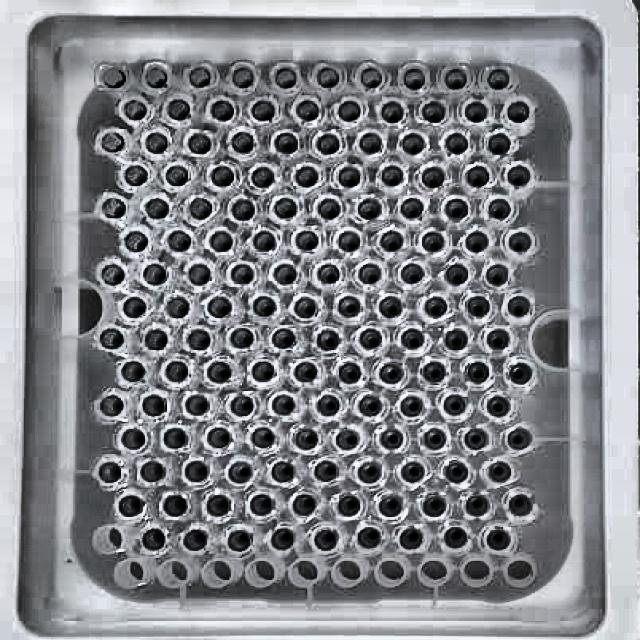vial: (356, 130, 384, 157), (315, 329, 342, 353), (314, 65, 341, 89), (270, 263, 298, 286), (166, 229, 191, 254), (485, 198, 511, 222), (420, 100, 446, 124), (400, 133, 427, 156), (356, 462, 384, 484), (292, 295, 317, 319), (336, 229, 361, 253), (101, 262, 126, 286), (228, 460, 254, 483), (401, 262, 427, 285), (399, 196, 425, 219), (230, 199, 256, 222), (229, 264, 256, 286), (336, 494, 360, 518), (507, 428, 531, 452), (209, 229, 233, 253), (444, 198, 468, 222), (190, 197, 214, 221), (316, 133, 340, 157), (99, 395, 124, 418), (141, 394, 166, 417), (399, 527, 424, 550), (508, 362, 533, 385), (165, 296, 190, 319), (273, 196, 298, 219), (359, 66, 384, 89), (274, 132, 299, 155), (142, 262, 167, 285), (124, 230, 149, 253), (122, 297, 147, 320), (229, 327, 254, 350), (187, 132, 212, 155), (315, 395, 341, 417), (485, 68, 511, 90), (250, 99, 276, 121), (444, 132, 470, 154), (183, 528, 207, 551), (465, 427, 489, 450), (466, 361, 489, 385), (254, 296, 278, 319), (508, 232, 532, 255), (188, 263, 212, 286), (358, 197, 382, 220), (464, 101, 488, 124), (121, 428, 146, 450), (121, 361, 146, 383), (358, 395, 383, 417), (422, 496, 447, 518), (358, 328, 383, 350), (423, 297, 448, 319), (316, 264, 341, 286), (466, 166, 491, 188), (101, 67, 126, 89), (210, 165, 235, 187), (165, 165, 190, 187), (291, 495, 317, 516), (421, 362, 447, 383), (251, 231, 277, 252), (269, 328, 296, 348), (294, 360, 317, 383), (400, 328, 423, 351), (208, 296, 231, 319), (465, 231, 488, 254), (317, 197, 340, 220), (275, 67, 298, 90), (141, 529, 165, 551), (118, 495, 142, 517), (207, 494, 231, 516), (444, 329, 468, 351), (486, 263, 508, 287), (421, 231, 445, 253), (508, 101, 530, 125), (421, 166, 445, 188), (187, 329, 211, 351), (166, 99, 190, 121), (211, 100, 235, 122), (100, 131, 124, 153), (380, 231, 405, 252), (295, 230, 320, 251), (338, 101, 363, 122), (98, 328, 123, 349), (164, 494, 187, 516), (272, 528, 295, 550), (100, 462, 122, 485), (165, 361, 188, 383), (163, 427, 186, 449), (402, 461, 425, 483), (358, 526, 381, 548), (272, 461, 295, 483), (295, 429, 318, 451), (487, 396, 510, 418), (338, 296, 361, 318), (403, 68, 426, 90), (125, 99, 148, 121), (233, 131, 255, 154), (124, 165, 147, 187), (186, 394, 210, 415), (379, 496, 403, 517), (380, 428, 404, 449), (379, 364, 403, 385), (378, 297, 402, 318), (466, 296, 490, 317), (446, 264, 470, 285), (444, 68, 468, 89), (380, 102, 404, 123), (508, 164, 532, 185), (295, 167, 319, 188), (145, 132, 169, 153), (146, 198, 170, 219), (102, 197, 126, 218), (486, 530, 511, 550), (208, 427, 230, 449), (252, 361, 274, 383), (273, 393, 295, 415), (315, 529, 337, 551), (508, 296, 530, 318), (189, 66, 211, 88), (208, 361, 231, 382), (445, 527, 468, 548), (466, 496, 489, 517), (336, 429, 359, 450), (489, 461, 512, 482), (486, 329, 509, 350), (358, 264, 381, 285), (145, 329, 168, 350), (144, 68, 168, 88), (294, 101, 319, 120), (251, 494, 273, 515), (141, 460, 162, 482), (509, 494, 531, 515), (339, 363, 361, 384), (488, 133, 509, 155), (232, 67, 254, 88), (231, 396, 254, 416), (424, 429, 447, 449), (186, 461, 207, 482), (339, 167, 360, 188), (229, 530, 249, 552), (252, 428, 274, 448), (315, 461, 337, 481), (446, 462, 468, 482), (401, 396, 423, 416), (443, 394, 465, 414), (253, 167, 275, 187), (382, 166, 404, 185)
